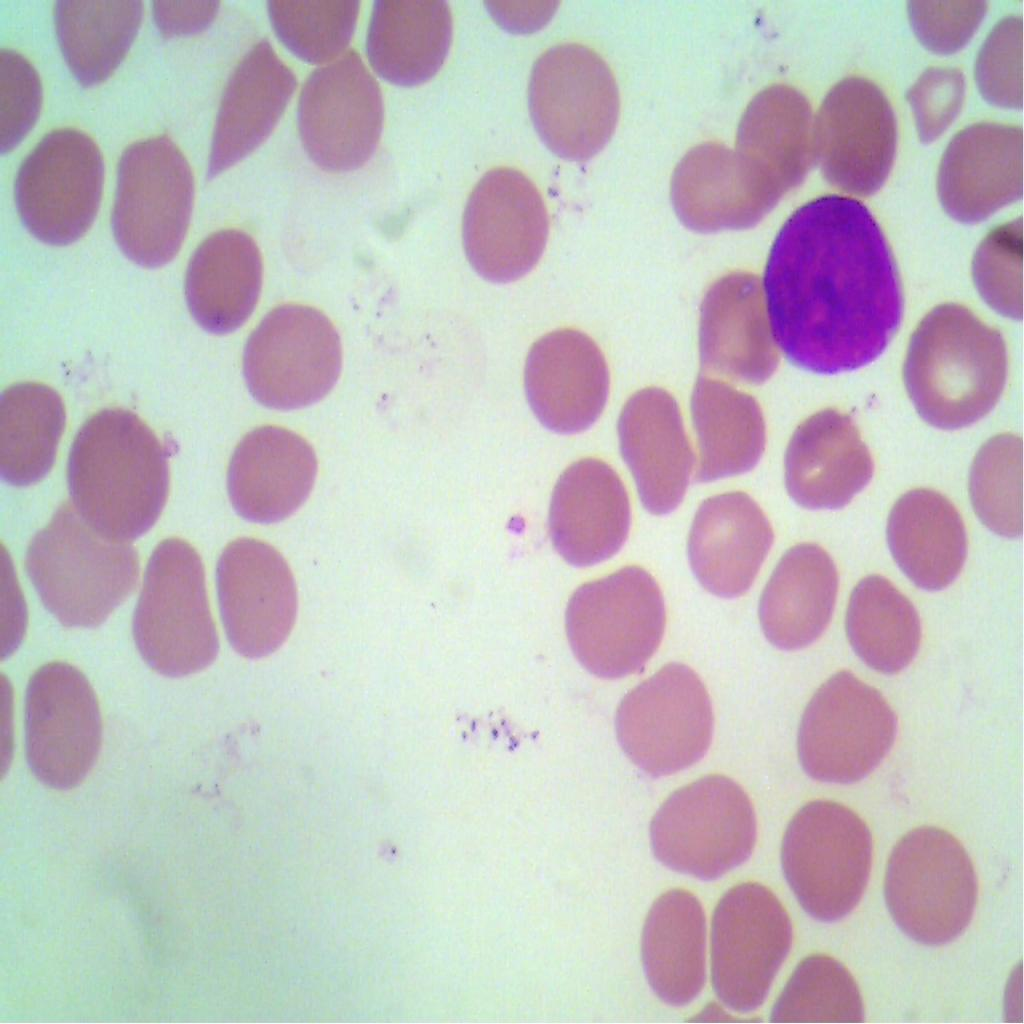Eritrosit: (26, 498, 142, 635), (904, 292, 1015, 432), (130, 534, 229, 682), (711, 871, 804, 1023), (208, 527, 309, 666), (638, 770, 764, 881), (556, 567, 674, 685), (98, 132, 196, 271), (11, 118, 106, 260), (238, 296, 348, 418), (66, 406, 169, 536), (458, 162, 556, 298), (783, 394, 884, 522), (778, 791, 871, 930), (14, 655, 104, 798), (811, 67, 901, 210), (296, 42, 384, 188), (610, 376, 700, 518), (534, 442, 635, 568), (515, 314, 614, 442), (886, 809, 979, 945), (792, 666, 898, 785), (218, 411, 321, 531), (688, 251, 778, 388), (529, 38, 624, 164), (616, 665, 718, 782), (179, 216, 271, 344), (206, 32, 292, 164), (732, 72, 818, 200), (926, 118, 1024, 228), (662, 134, 763, 238), (682, 488, 774, 600), (359, 0, 464, 95), (756, 530, 839, 648), (891, 482, 976, 594), (635, 874, 708, 1004), (840, 566, 922, 678), (0, 382, 75, 495), (686, 378, 774, 474), (904, 52, 968, 139)
Limfoblast: (754, 188, 906, 372)
Platelet: (495, 498, 536, 552)
